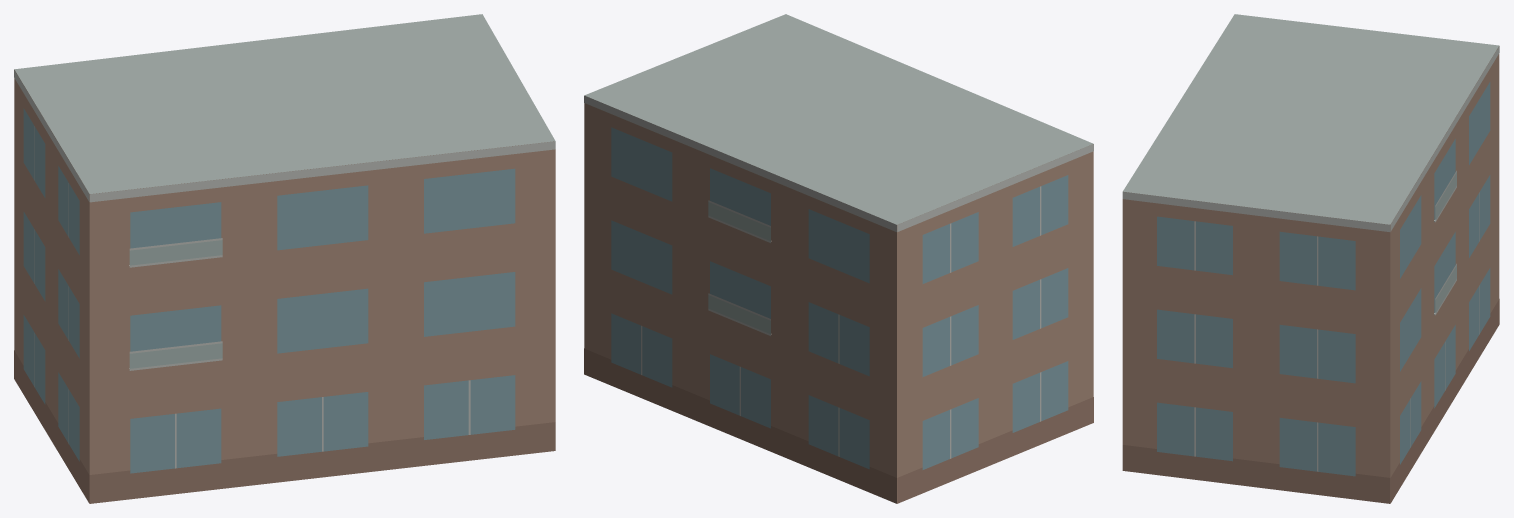
The model's file is survey-upis-32655035.glb.
The picture shows the model from 3 angles, left to right: view 1: azimuth 30°, elevation 25°; view 2: azimuth 150°, elevation 25°; view 3: azimuth 270°, elevation 25°; orthographic projection. The views are drawn at different scales.
Parts seen in each view (by area): view 1: survey-upis-32655035.tmp; view 2: survey-upis-32655035.tmp; view 3: survey-upis-32655035.tmp.
Boxes of the visible parts, <box> form: survey-upis-32655035.tmp: <box>14,14,555,503</box>; survey-upis-32655035.tmp: <box>584,14,1093,503</box>; survey-upis-32655035.tmp: <box>1122,14,1499,503</box>.
Bounding box in the file's own units: 14.83 × 9.15 × 11.21.
